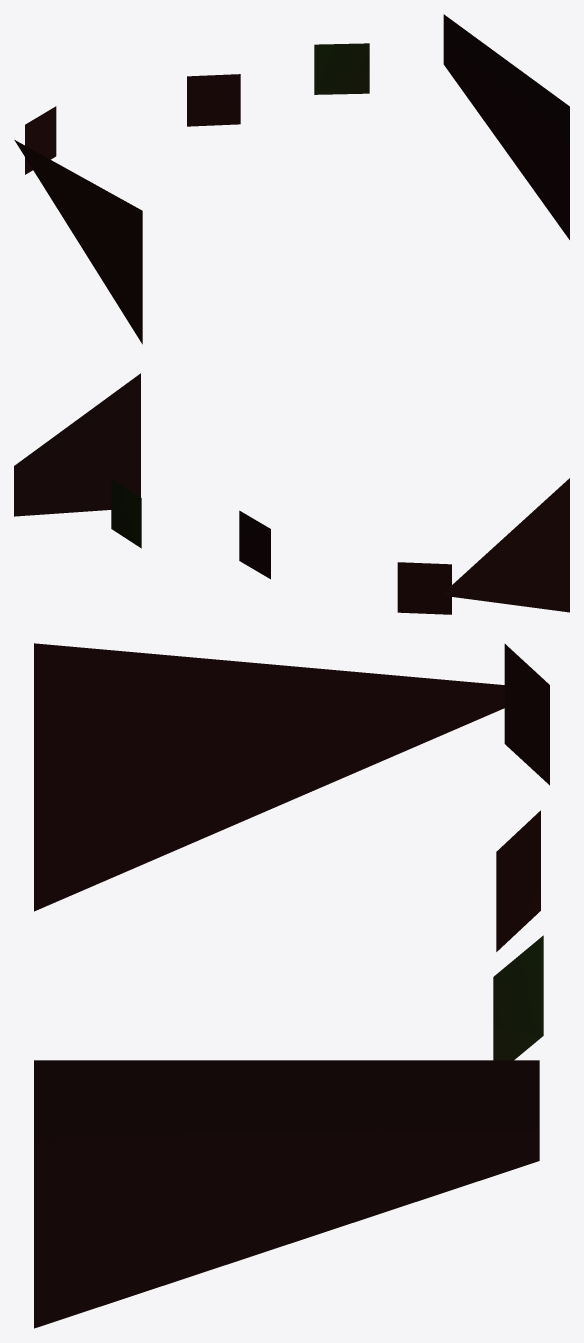
File: tf_basalt_ledge_8m_lod2.glb
3 renders of one model, top to bottom at view 1: azimuth 30°, elevation 25°; view 2: azimuth 150°, elevation 25°; view 3: azimuth 270°, elevation 25°, orthographic. The views are drawn at different scales.
Visible parts, largest first — view 1: tf_basalt_ledge_8m_lod2; view 2: tf_basalt_ledge_8m_lod2; view 3: tf_basalt_ledge_8m_lod2.
Part boxes in pixels (box(x1,y1,x2,y2)): tf_basalt_ledge_8m_lod2: box(14, 14, 569, 344); tf_basalt_ledge_8m_lod2: box(14, 373, 569, 614); tf_basalt_ledge_8m_lod2: box(34, 643, 549, 1328).
Size of the model in its own units: 8 by 2.4 by 4.18.
